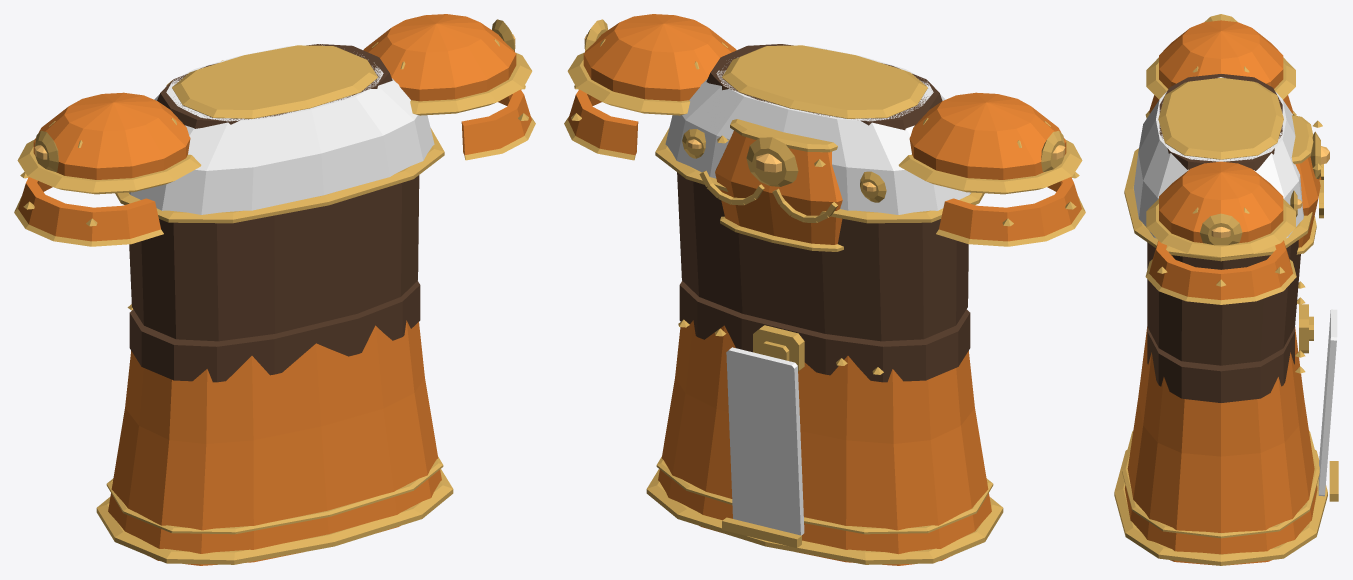
Rendered from look3_armor_healer_legendary.fbx.
The picture shows the model from 3 angles, left to right: view 1: azimuth 30°, elevation 25°; view 2: azimuth 150°, elevation 25°; view 3: azimuth 270°, elevation 25°; orthographic projection. The views are drawn at different scales.
Visible parts, largest first — view 1: Main, Tasset; view 2: Main, Tasset; view 3: Main, Tasset.
Part boxes in pixels (bbox=[...]): Main: bbox=[14, 14, 535, 382]; Tasset: bbox=[96, 320, 453, 565]; Main: bbox=[564, 14, 1085, 382]; Tasset: bbox=[646, 320, 1003, 565]; Main: bbox=[1124, 14, 1329, 402]; Tasset: bbox=[1114, 309, 1338, 565].
Bounding box in the file's own units: 413 × 350 × 178.
